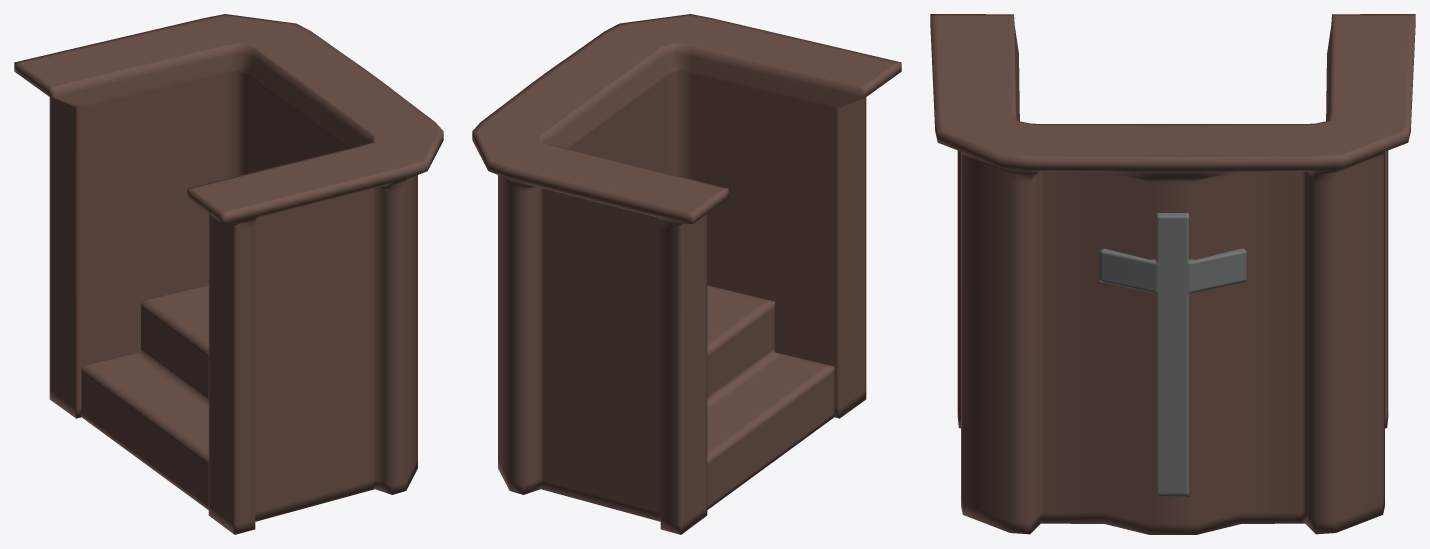
File: Pulpit.fbx
The picture shows the model from 3 angles, left to right: view 1: azimuth 30°, elevation 25°; view 2: azimuth 150°, elevation 25°; view 3: azimuth 270°, elevation 25°; orthographic projection. The views are drawn at different scales.
Visible parts, largest first — view 1: Pulpit; view 2: Pulpit; view 3: Pulpit.
Part boxes in pixels (<box>): Pulpit: <box>14,14,443,534</box>; Pulpit: <box>472,14,901,534</box>; Pulpit: <box>930,14,1415,534</box>.
Bounding box in the file's own units: 170 × 120 × 150.
